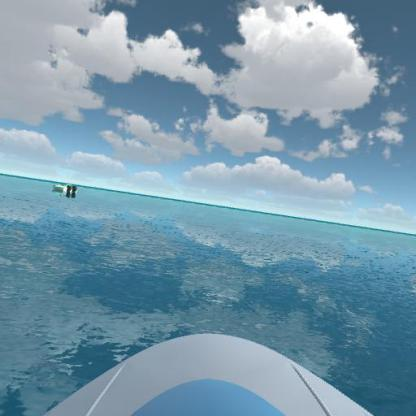usv0: (50, 179, 81, 199)
